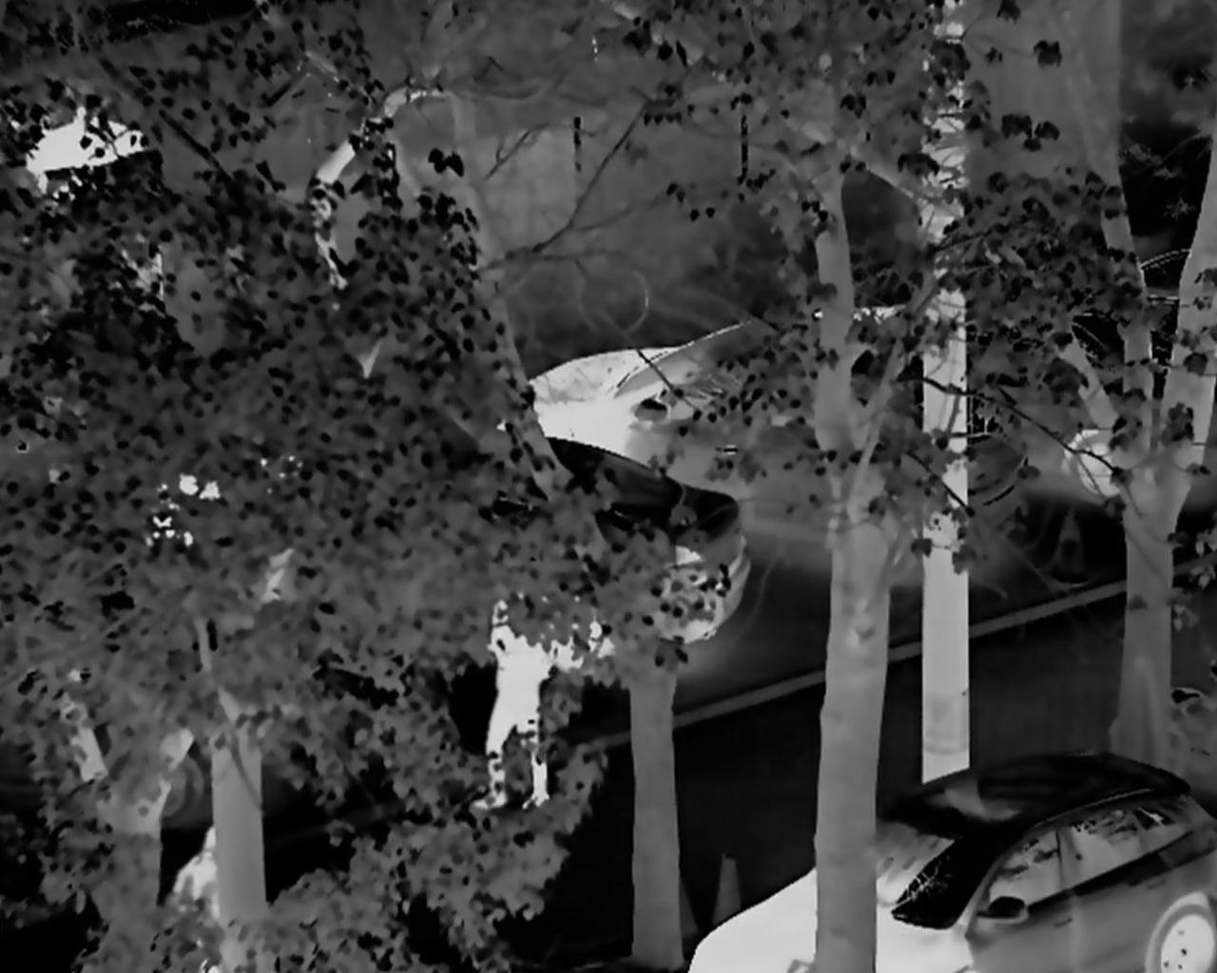person: (467, 594, 563, 827), (168, 824, 234, 956)
